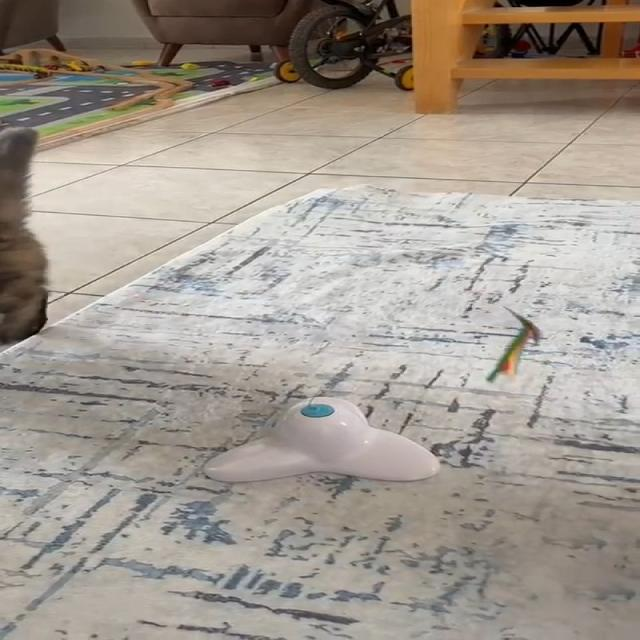authorized: (0, 125, 51, 345)
